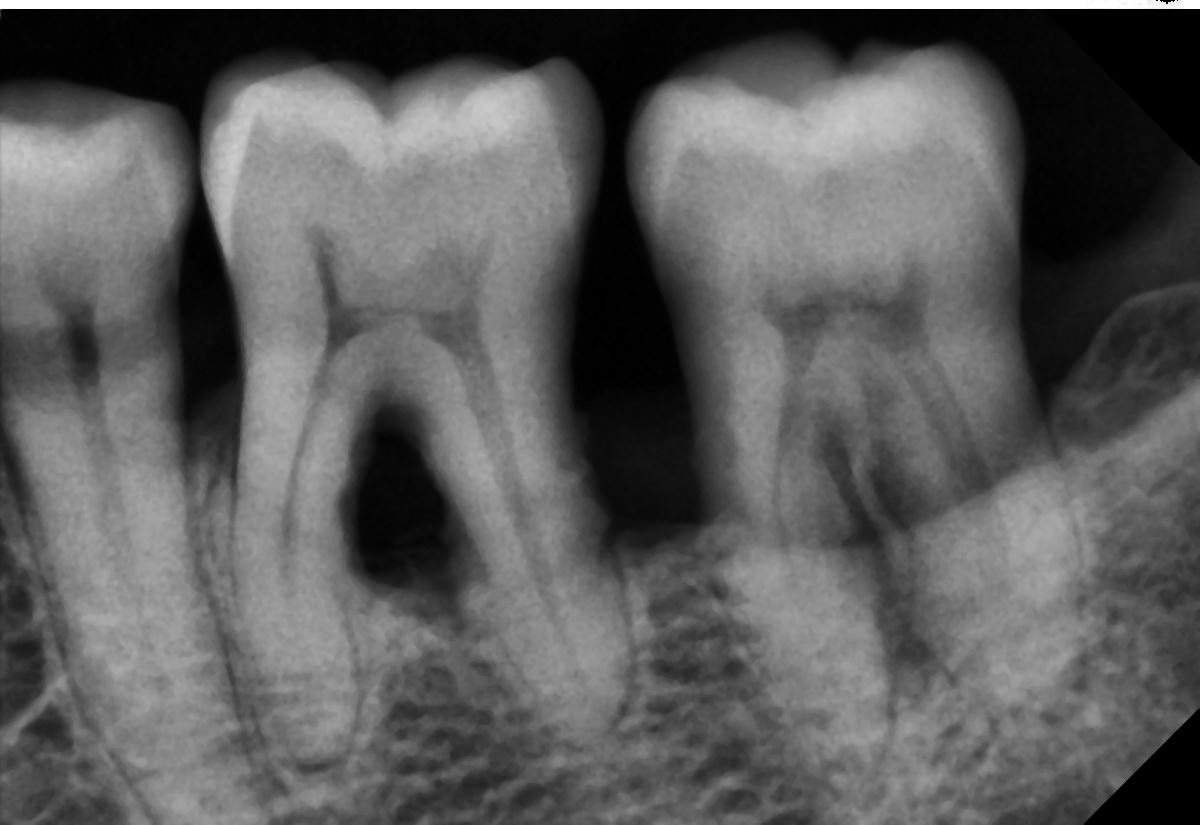Individual Tooth: (628, 27, 1088, 782), (192, 47, 632, 771), (0, 77, 278, 825)
